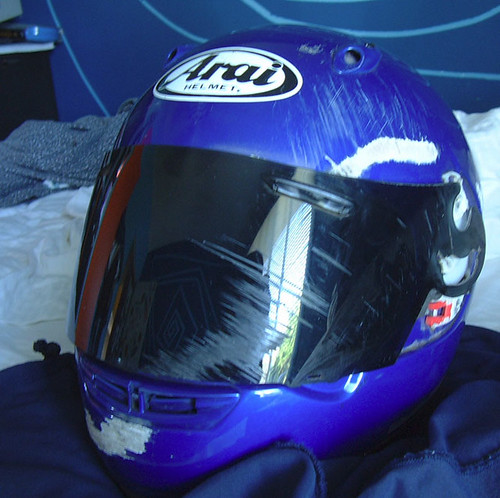helmet: (76, 44, 479, 460)
